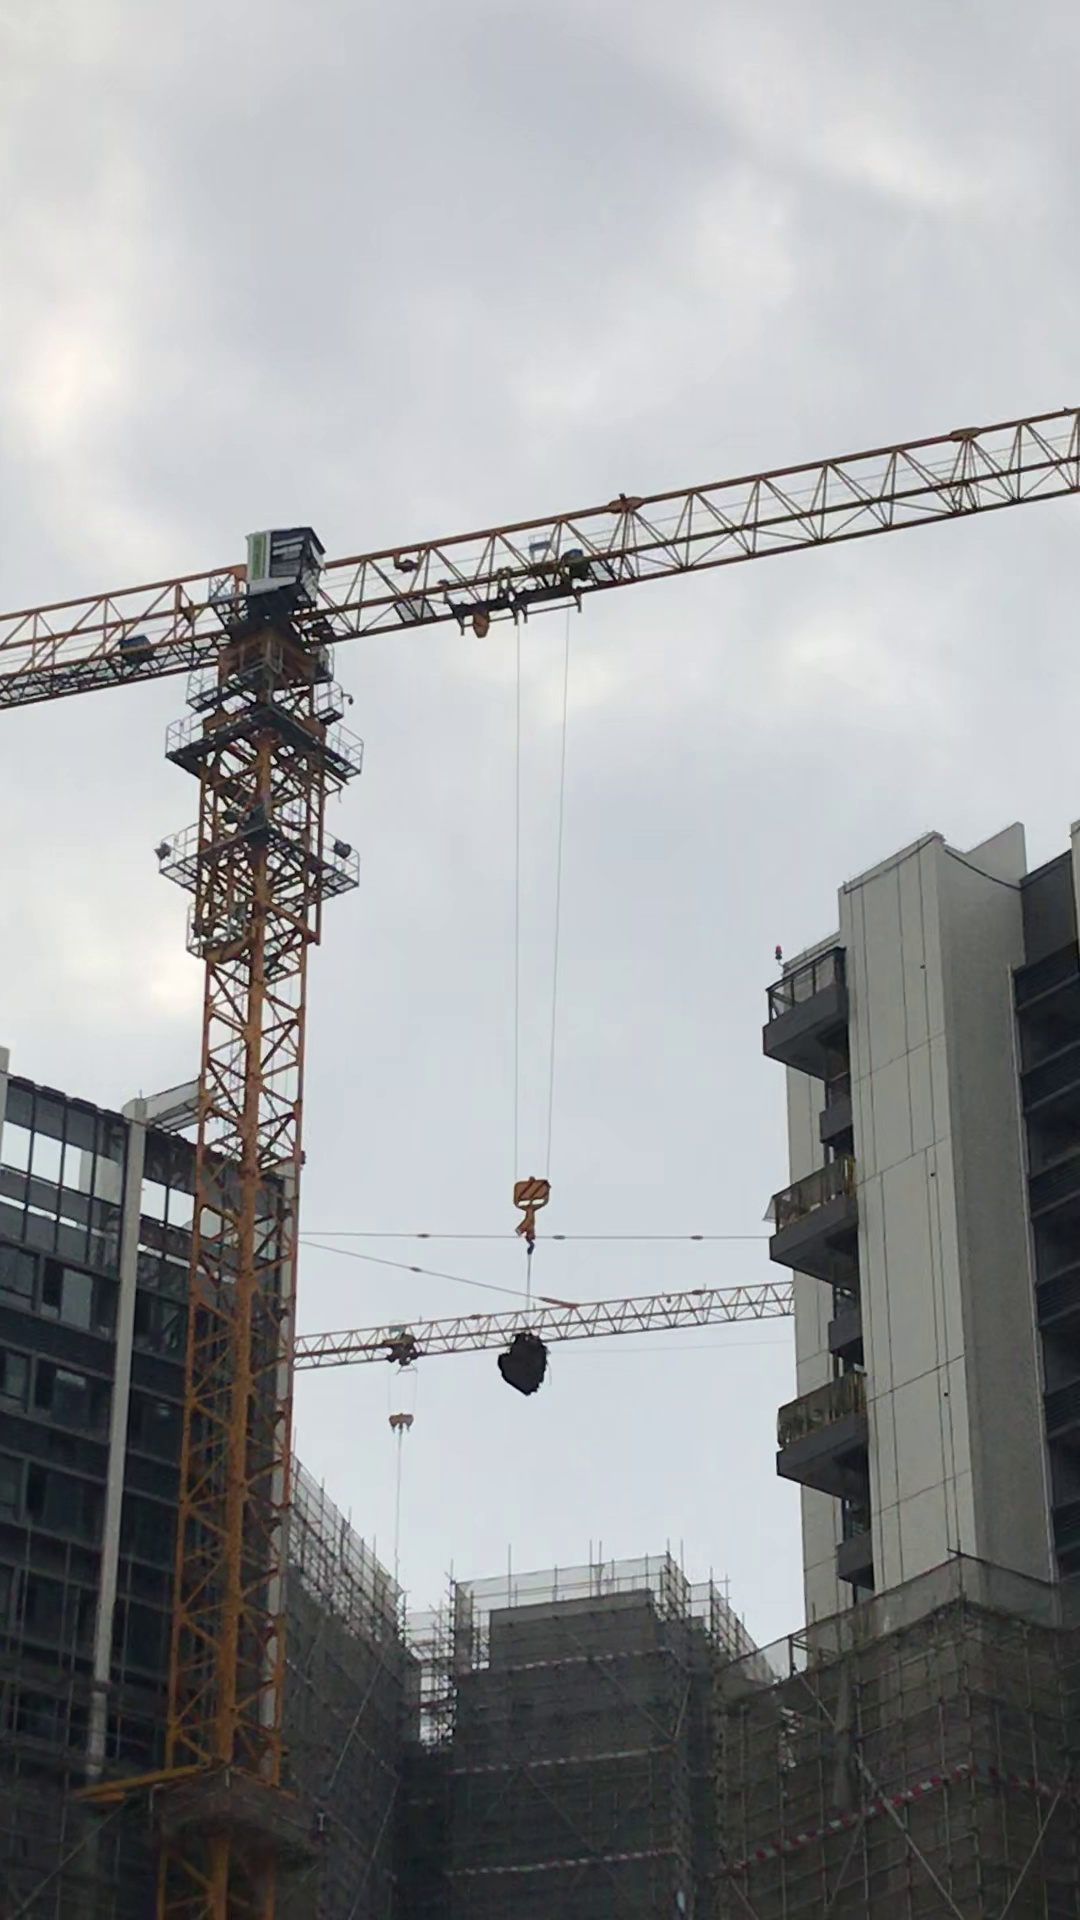hook: (510, 1168, 559, 1255), (386, 1407, 415, 1436)
